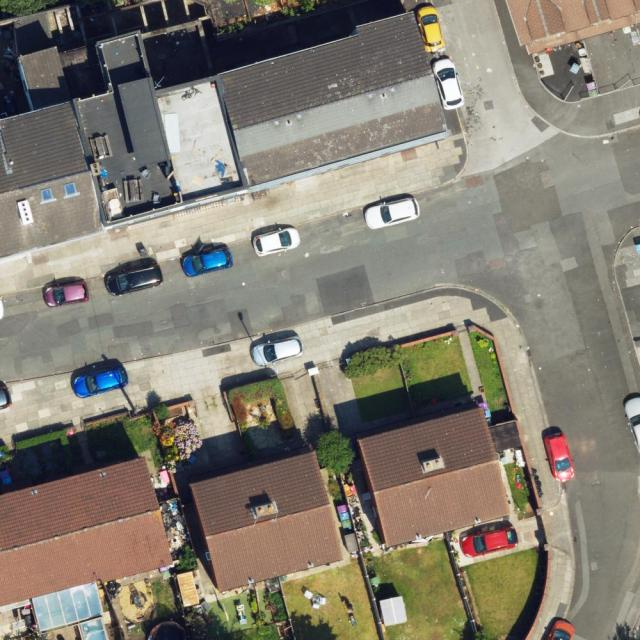roof: (0, 9, 452, 259), (0, 457, 173, 640), (359, 403, 523, 549), (190, 450, 344, 592), (506, 0, 640, 59)
skylight: (29, 582, 109, 640), (39, 186, 56, 205), (63, 180, 78, 198)
